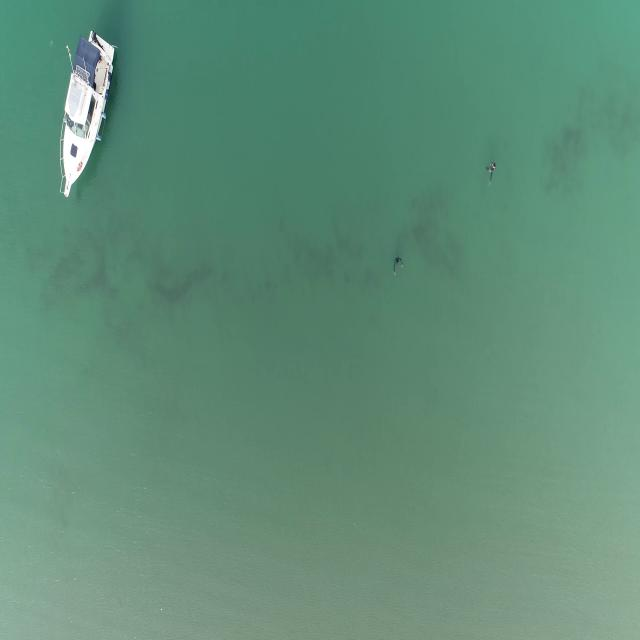boat: (57, 30, 118, 199)
person: (486, 158, 498, 187), (391, 255, 404, 277)
